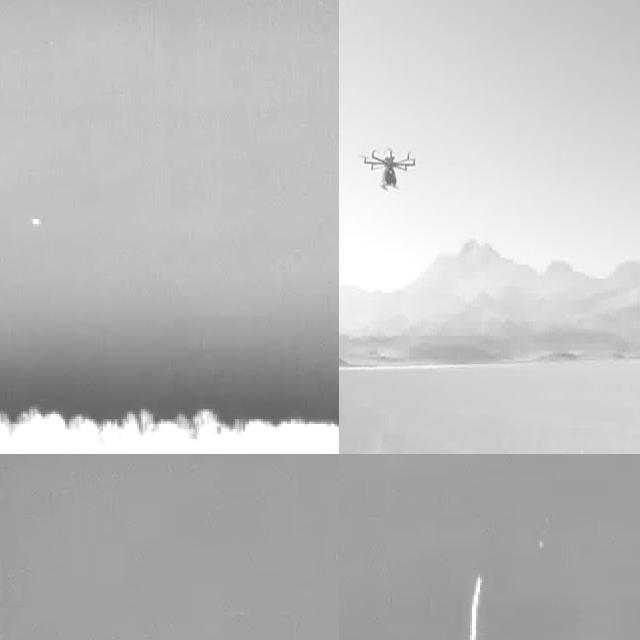0: (527, 526, 553, 562)
1: (17, 209, 47, 241)
drone: (362, 143, 416, 195)
